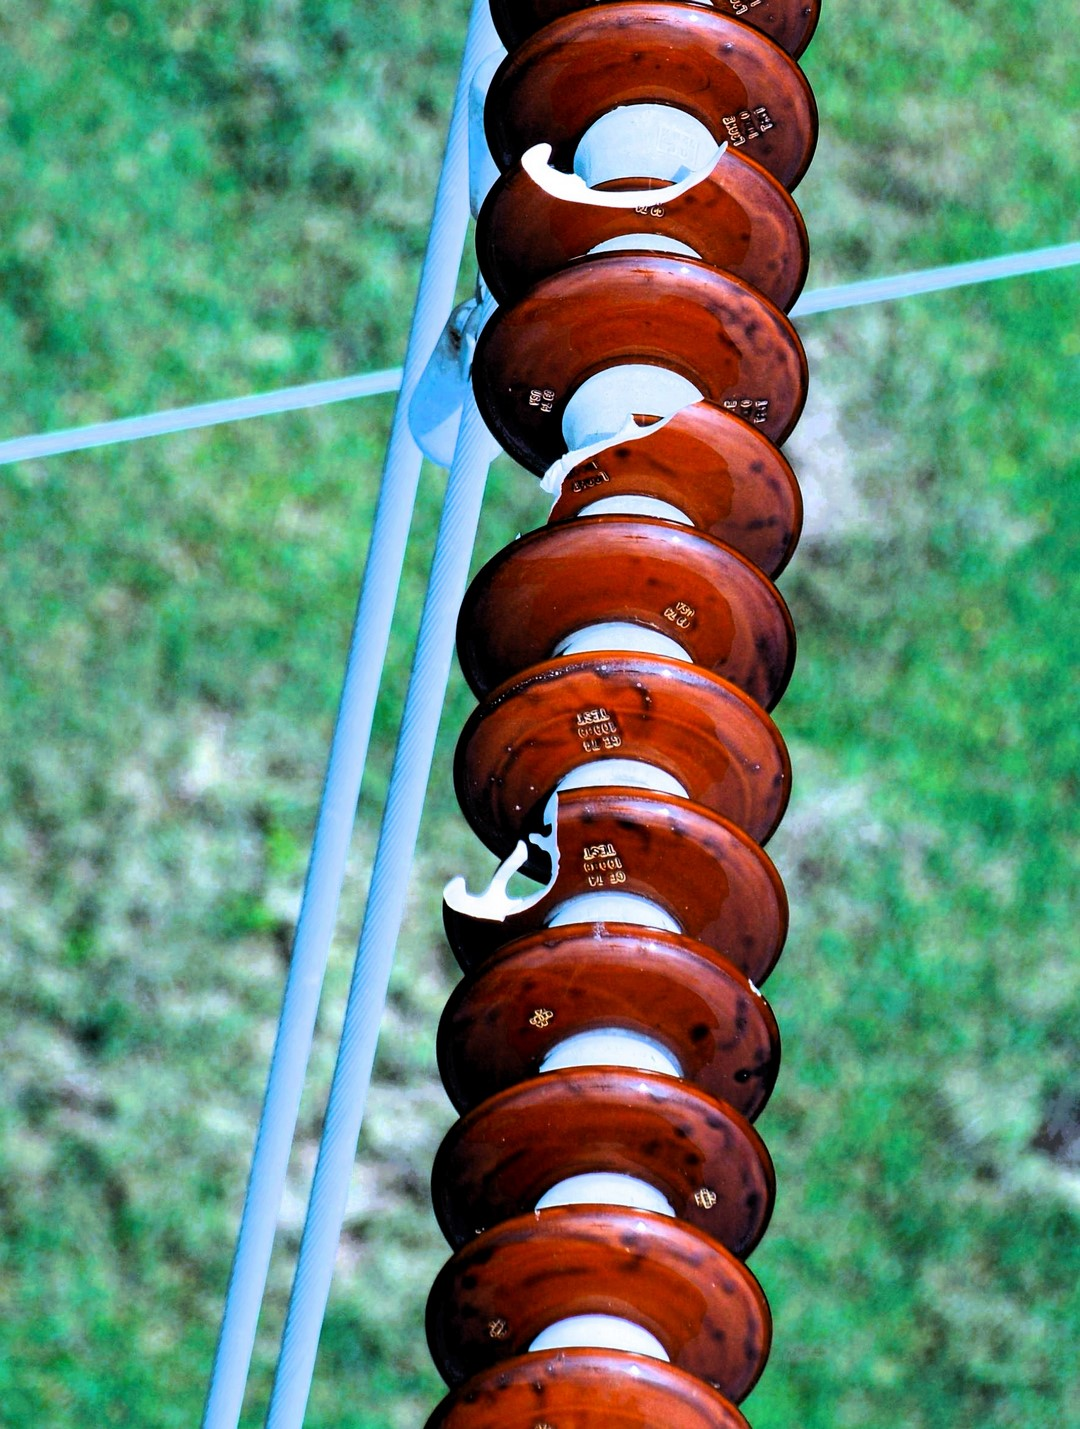insulator breakage: (429, 771, 811, 997), (472, 122, 825, 325), (482, 397, 821, 589)
